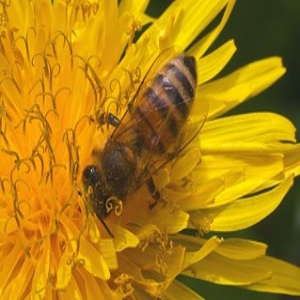bee: (72, 45, 210, 245)
